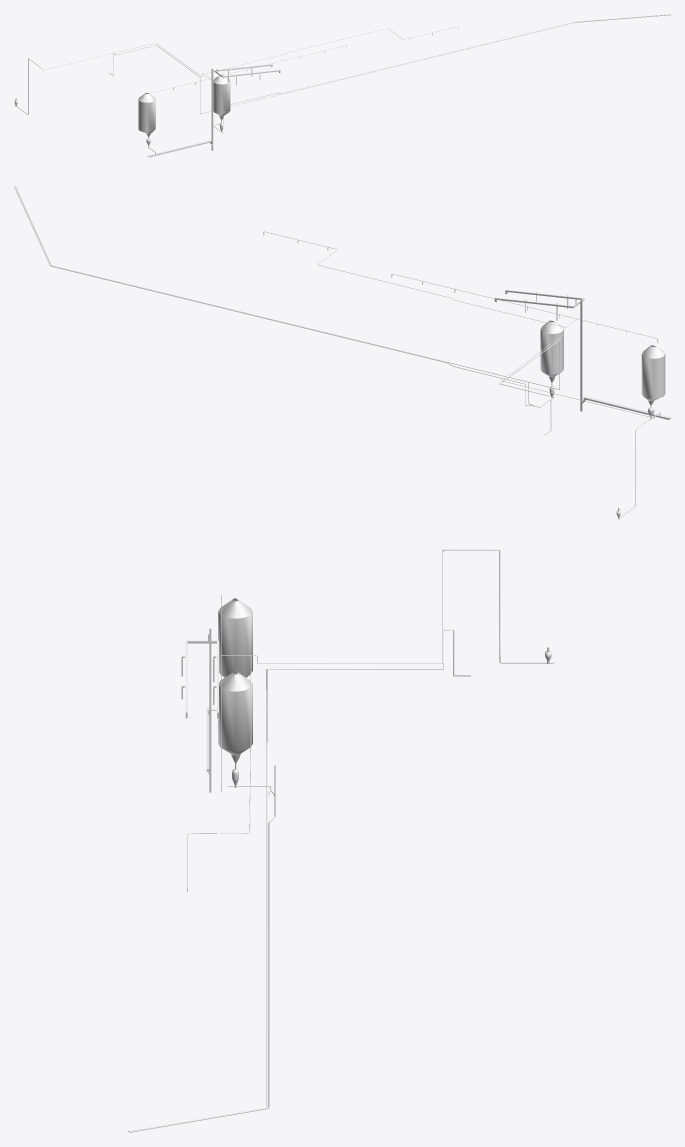
Rendered from 粉料动画.glb.
3 renders of one model, top to bottom at view 1: azimuth 30°, elevation 25°; view 2: azimuth 150°, elevation 25°; view 3: azimuth 270°, elevation 25°, orthographic. The views are drawn at different scales.
Visible parts, largest first — view 1: 输出管道第一段, 半成品均化桶粉尘动画, 成品均化桶粉尘动画, 充气斜槽粉料动画, M01粉料动画第一段, M01粉料动画第二段, 链式提升机粉料动画; view 2: 输出管道第一段, 半成品均化桶粉尘动画, 成品均化桶粉尘动画; view 3: 成品均化桶粉尘动画, 半成品均化桶粉尘动画, 输出管道第一段, M01粉料动画第一段.
Boxes of the visible parts, box(x1,y1,x2,y2) form: 输出管道第一段: box(213, 14, 670, 133); 半成品均化桶粉尘动画: box(138, 93, 155, 133); 成品均化桶粉尘动画: box(213, 74, 230, 116); 充气斜槽粉料动画: box(214, 64, 280, 79); M01粉料动画第一段: box(14, 43, 204, 114); M01粉料动画第二段: box(205, 26, 458, 73); 链式提升机粉料动画: box(211, 69, 213, 150); 输出管道第一段: box(14, 186, 554, 407); 半成品均化桶粉尘动画: box(641, 345, 665, 401); 成品均化桶粉尘动画: box(540, 320, 563, 377); 成品均化桶粉尘动画: box(218, 671, 252, 755); 半成品均化桶粉尘动画: box(218, 598, 252, 677); 输出管道第一段: box(128, 764, 275, 1132); M01粉料动画第一段: box(249, 549, 556, 663).
Size of the model in its own units: 244 by 34.48 by 82.19.
3 materials, 3 textured.
